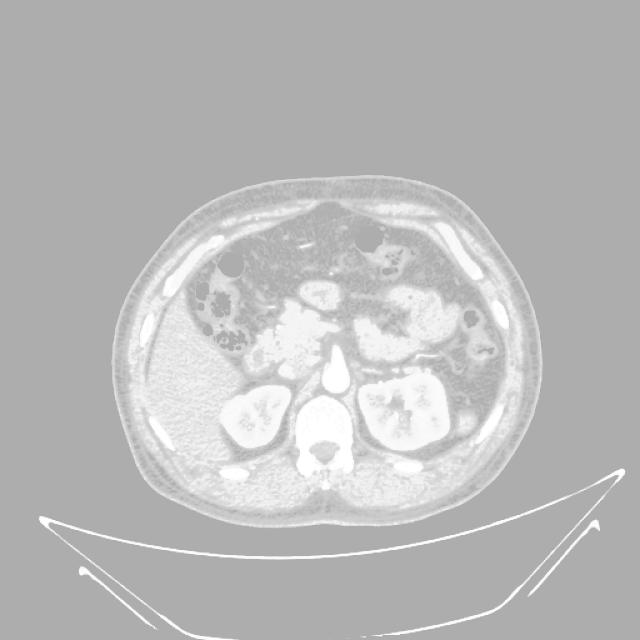NORMAL: (125, 193, 513, 499)
